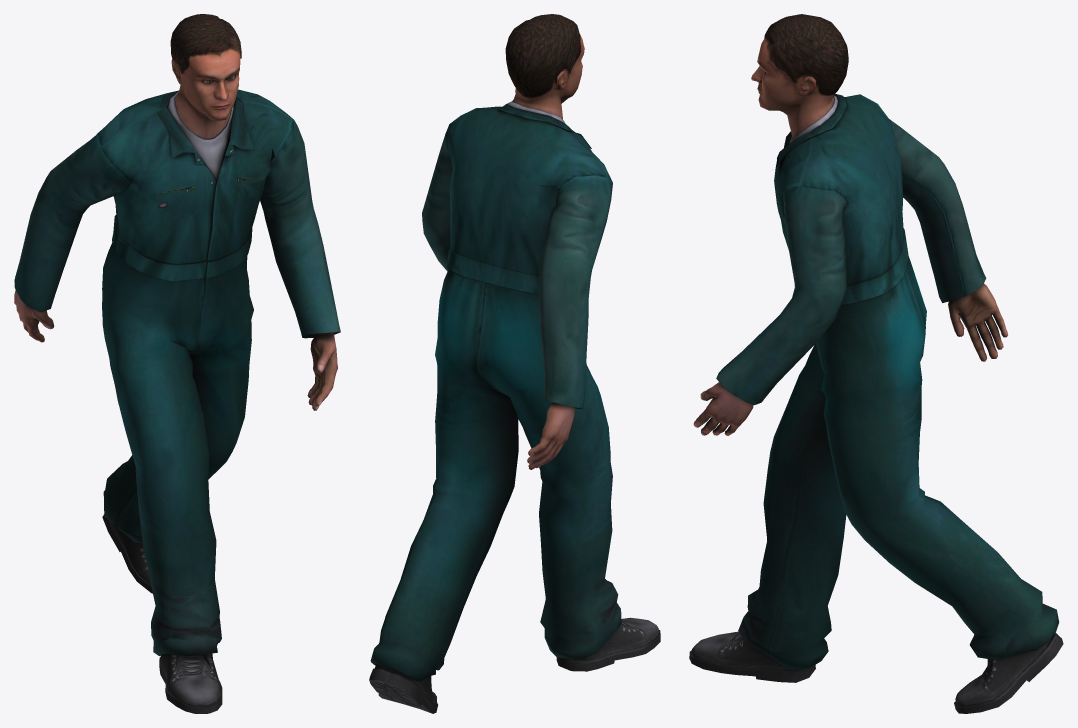
The model's file is SWRK01_03_03.FBX.
3 renders of one model, left to right at view 1: azimuth 30°, elevation 25°; view 2: azimuth 150°, elevation 25°; view 3: azimuth 270°, elevation 25°, orthographic. The views are drawn at different scales.
Parts seen in each view (by area): view 1: SWRK01_03_03; view 2: SWRK01_03_03; view 3: SWRK01_03_03.
Part boxes in pixels (x1,y1,x2,y2): SWRK01_03_03: (14,14,340,713); SWRK01_03_03: (369,14,660,713); SWRK01_03_03: (689,14,1063,713).
Bounding box in the file's own units: 24.81 × 67.87 × 34.44.
Materials: 1 (1 with a texture image).
